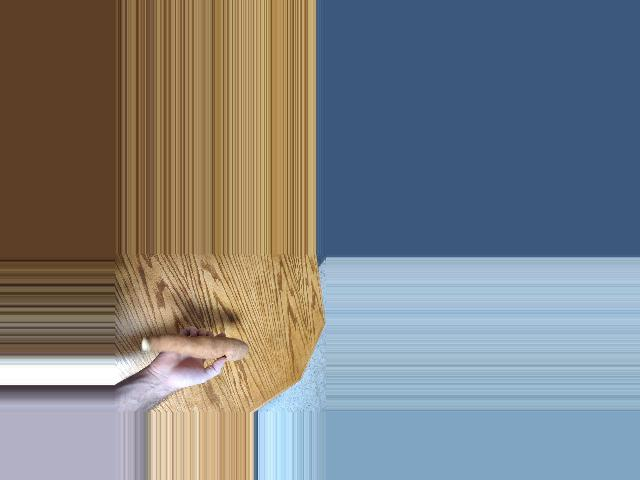sweet_potato: (149, 328, 248, 355)
